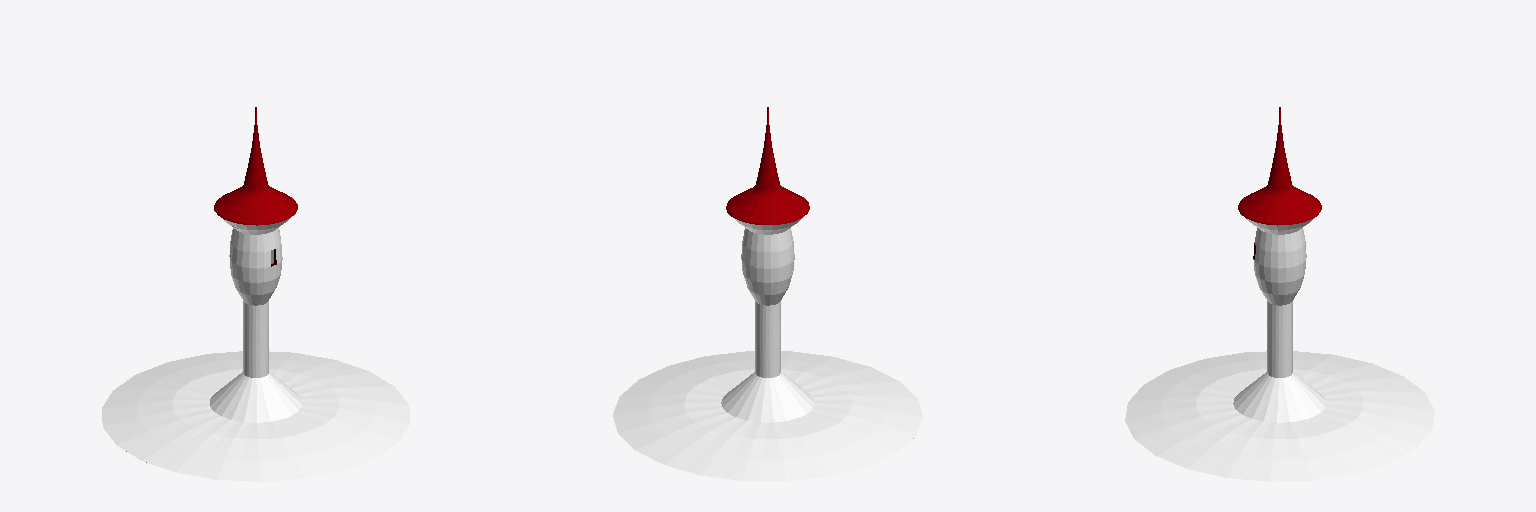
Rendered from palace.obj.
The picture shows the model from 3 angles: view 1: azimuth 30°, elevation 25°; view 2: azimuth 150°, elevation 25°; view 3: azimuth 270°, elevation 25°; orthographic projection.
Parts seen in each view (by area): view 1: BezierCurve.001_CUBezierCurve.001; view 2: BezierCurve.001_CUBezierCurve.001; view 3: BezierCurve.001_CUBezierCurve.001.
Boxes of the visible parts, box(x1,y1,x2,y2) form: BezierCurve.001_CUBezierCurve.001: box(102, 107, 409, 481); BezierCurve.001_CUBezierCurve.001: box(613, 107, 922, 481); BezierCurve.001_CUBezierCurve.001: box(1125, 107, 1434, 481).
Size of the model in its own units: 2.58 by 2.94 by 2.58.